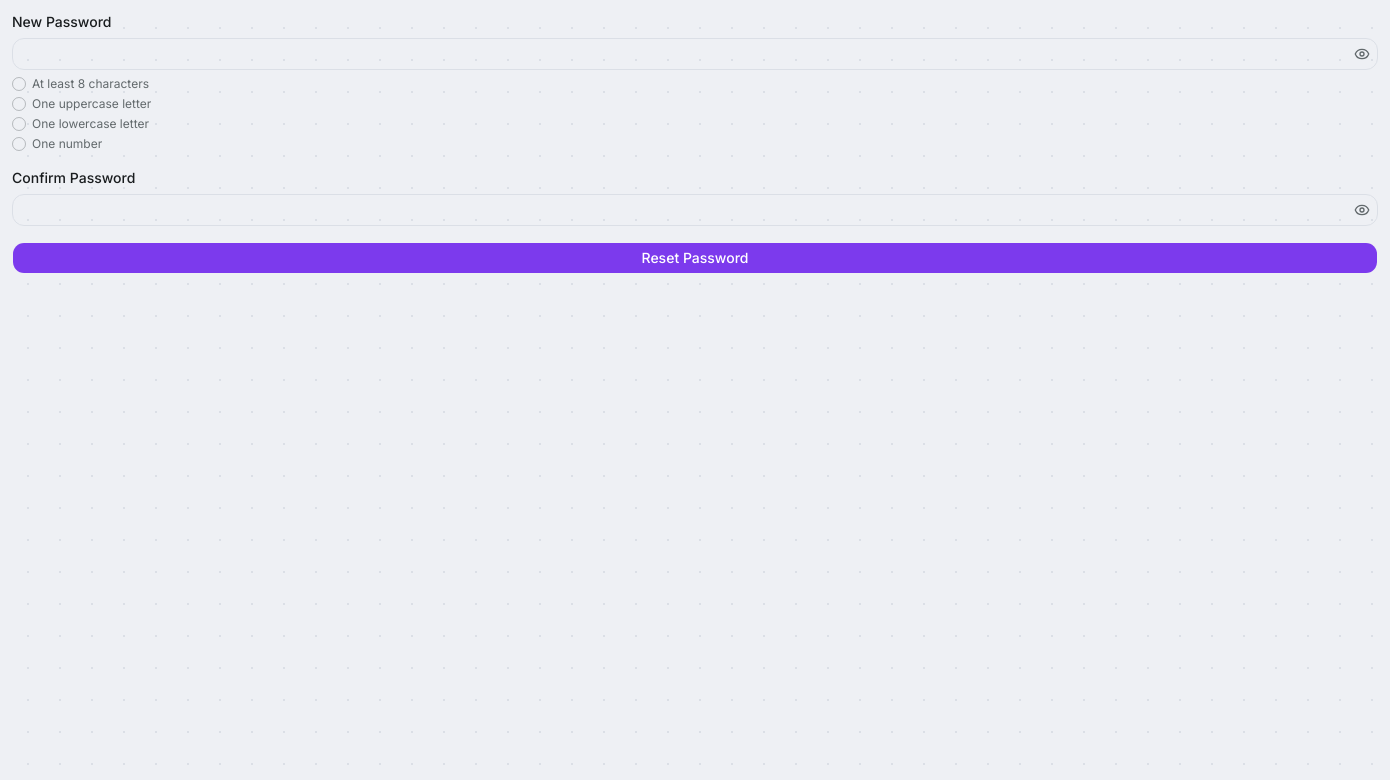
Test case: ResetPasswordForm › maps the token_used API error code to its own message
Type "Password123" into the password field labelled "New Password" at {"x": 695, "y": 54}, box top-left (12, 38), bottom-right (1378, 70)
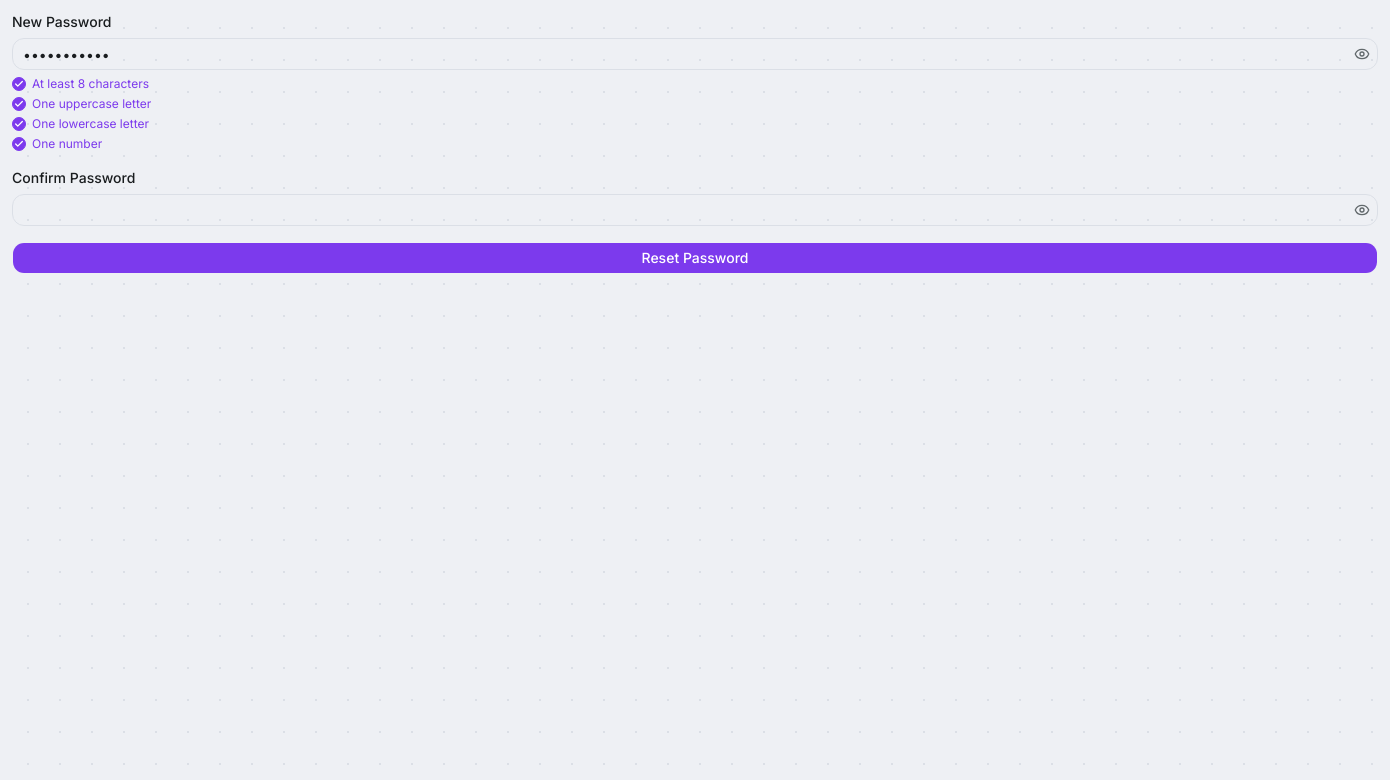
Type "Password123" into the password field labelled "Confirm Password" at {"x": 695, "y": 210}, box top-left (12, 194), bottom-right (1378, 226)
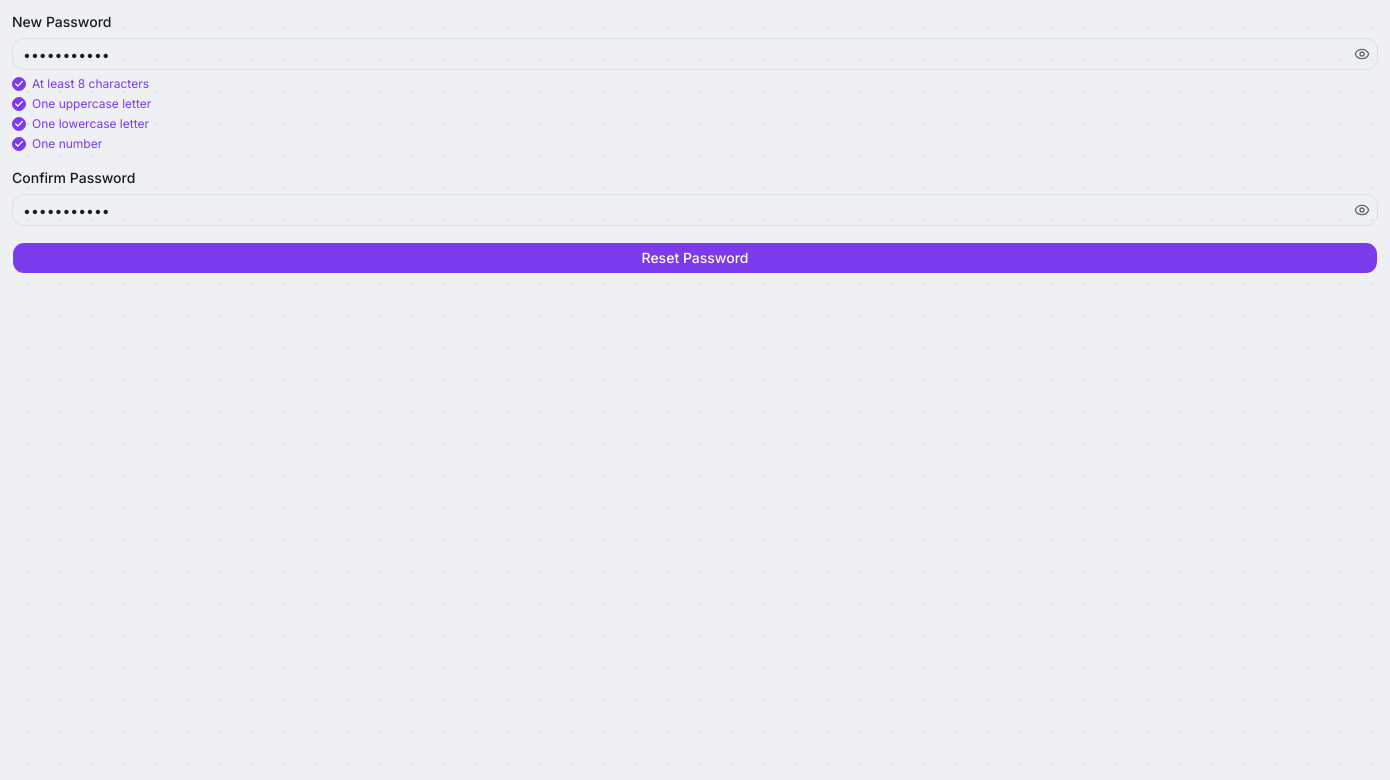
Click the button "Reset Password" at {"x": 695, "y": 258}, box top-left (12, 242), bottom-right (1378, 274)
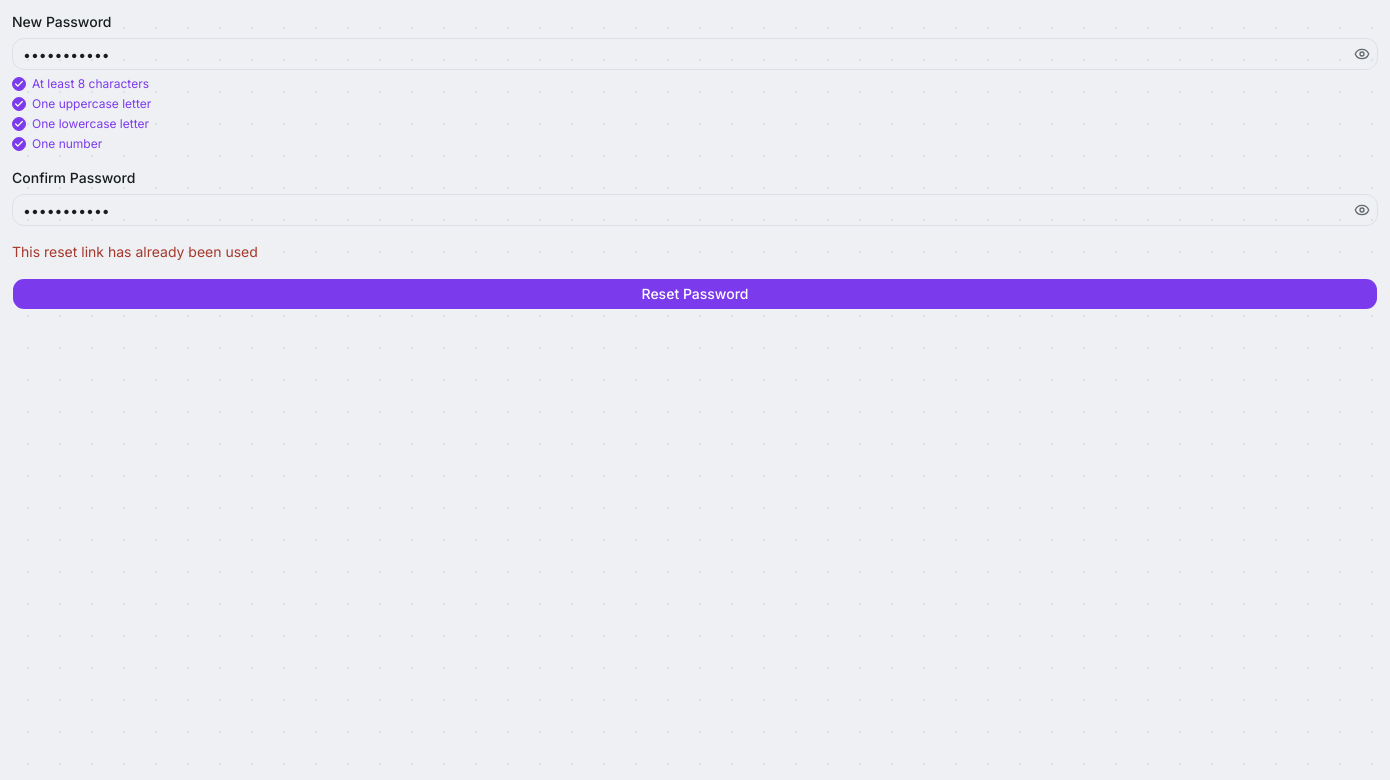
Expected: the text "This reset link has already been used" is shown, top-left (12, 243), bottom-right (258, 260)
